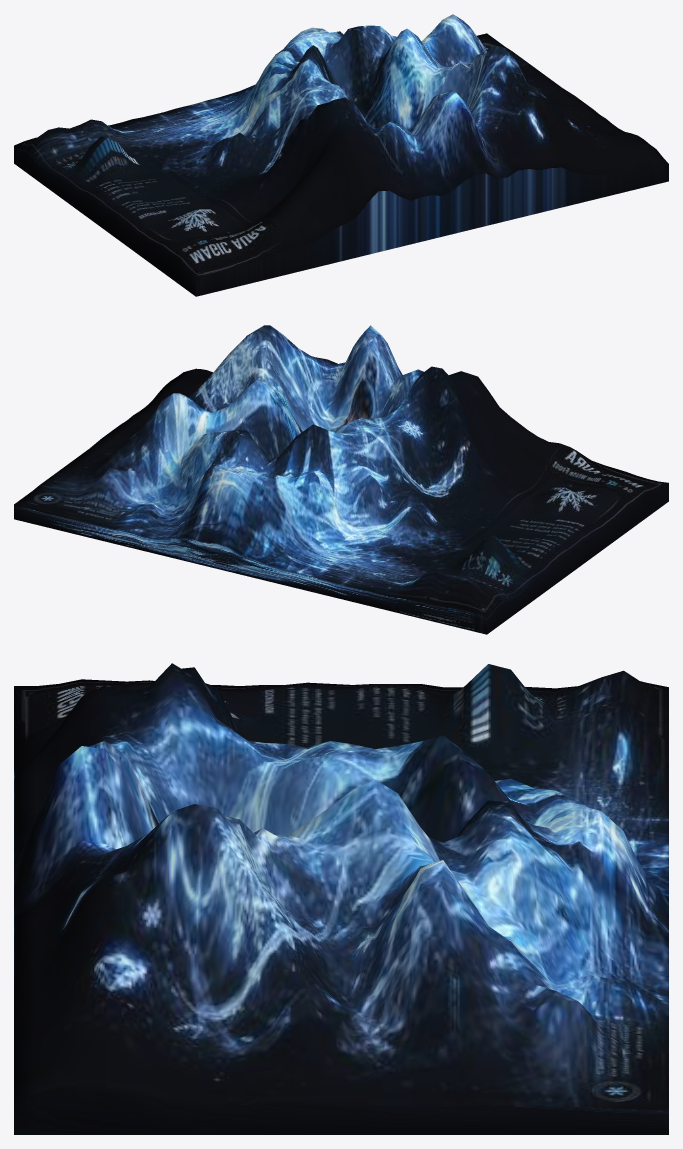
File: MAGIC_Aura_04_Ice.glb
3 renders of one model, top to bottom at view 1: azimuth 30°, elevation 25°; view 2: azimuth 150°, elevation 25°; view 3: azimuth 270°, elevation 25°, orthographic. The views are drawn at different scales.
Parts seen in each view (by area): view 1: MAGIC_Aura_04_Ice; view 2: MAGIC_Aura_04_Ice; view 3: MAGIC_Aura_04_Ice.
Boxes of the visible parts, x1=… form: MAGIC_Aura_04_Ice: x1=14, y1=14, x2=668, y2=296; MAGIC_Aura_04_Ice: x1=14, y1=325, x2=668, y2=634; MAGIC_Aura_04_Ice: x1=14, y1=663, x2=668, y2=1134.
Bounding box in the file's own units: 2 × 0.51 × 1.33.
Materials: 1 (1 with a texture image).
